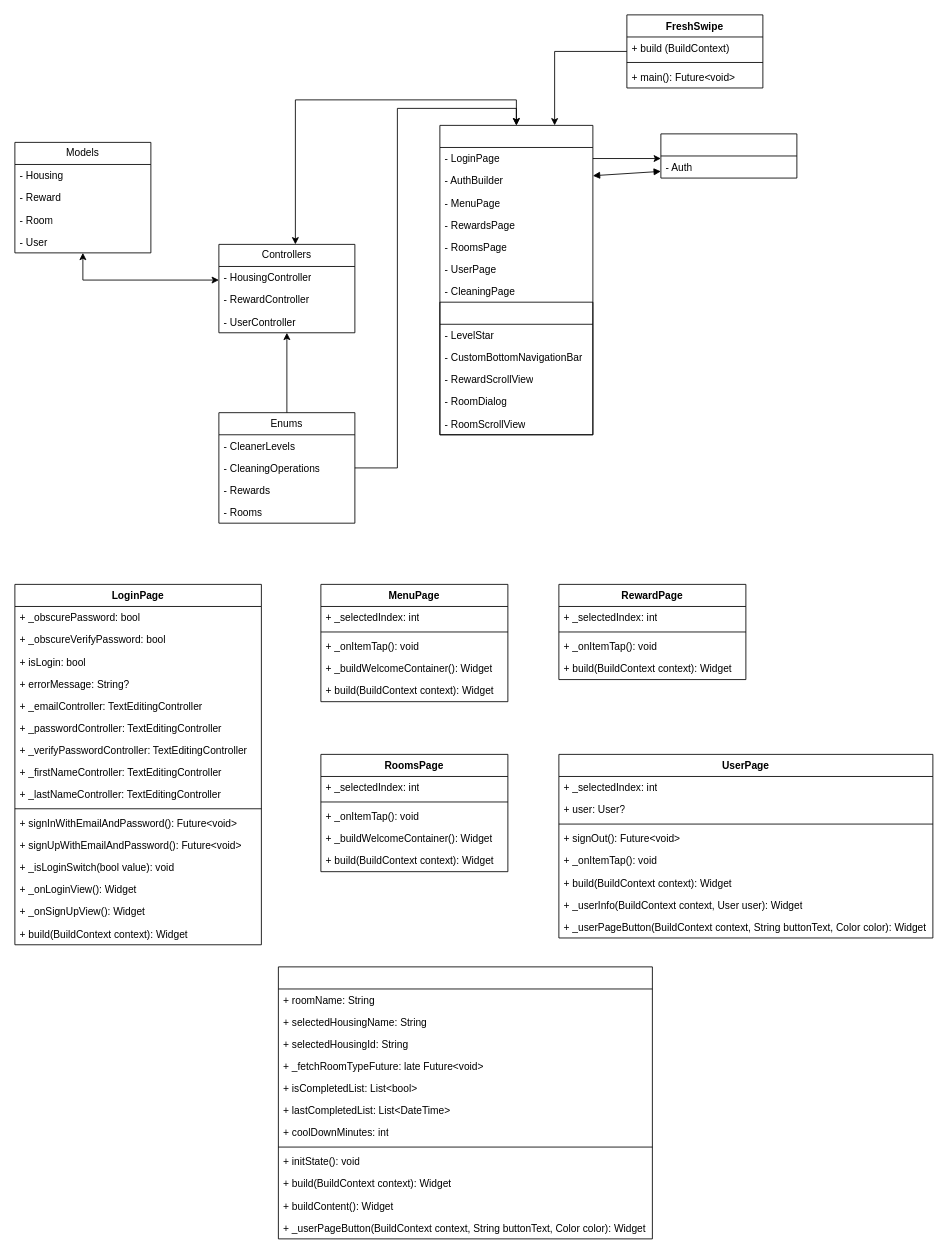
The diagram is 948 pixels wide and 1256 high, and some of its shapes have lost their labels. Each missing label, with the box of its shape:
CleaningPage: (278, 966, 652, 1239)
Services: (660, 133, 797, 178)
Views (UI): (439, 125, 593, 435)
Widgets: (439, 301, 593, 435)
